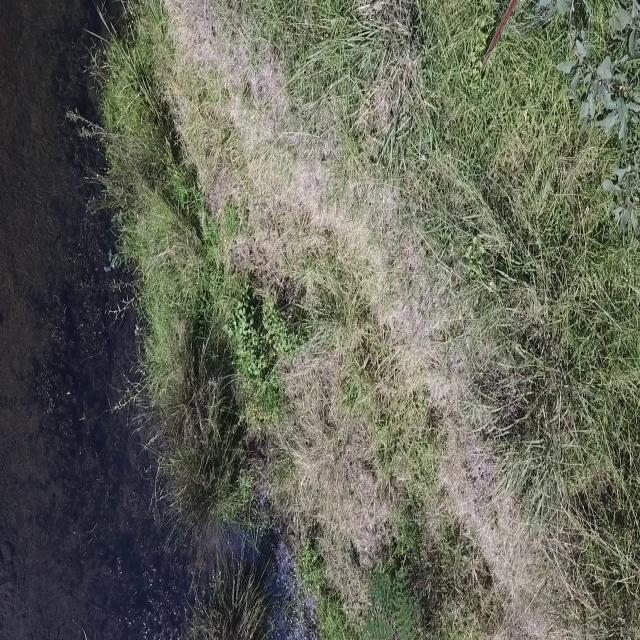Mysore-Thorn-Weed: (358, 560, 422, 640)
